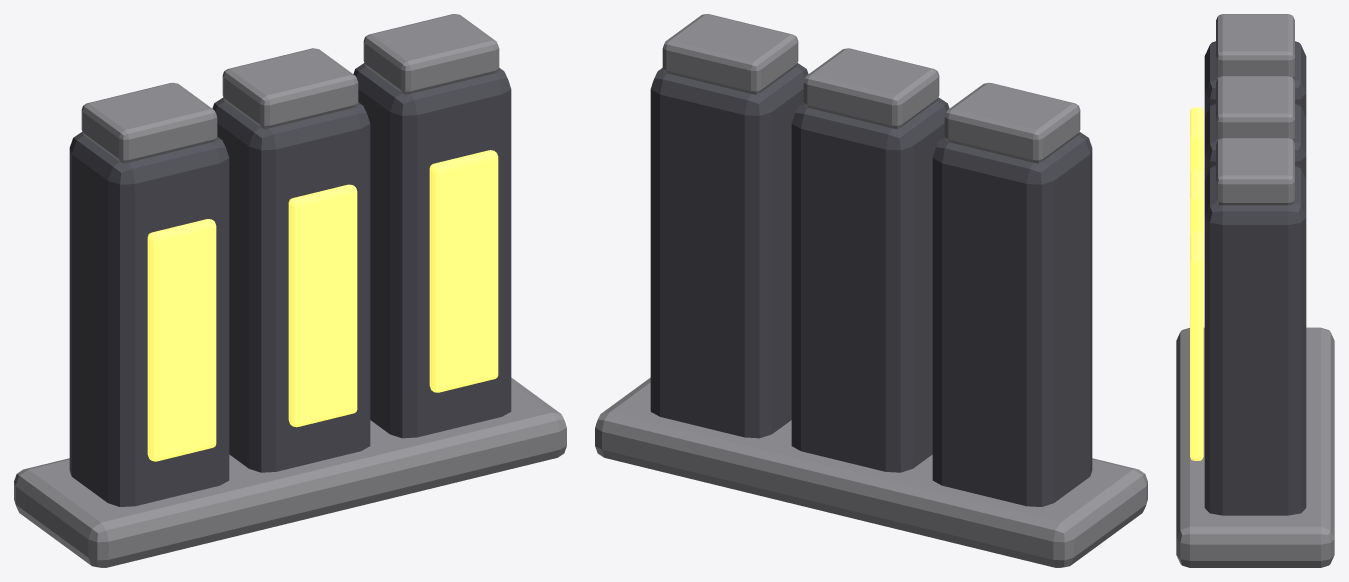
Rendered from pickup_pistol_ammo.glb.
The picture shows the model from 3 angles, left to right: view 1: azimuth 30°, elevation 25°; view 2: azimuth 150°, elevation 25°; view 3: azimuth 270°, elevation 25°; orthographic projection. The views are drawn at different scales.
Parts seen in each view (by area): view 1: pickup_pistol_ammo; view 2: pickup_pistol_ammo; view 3: pickup_pistol_ammo.
Boxes of the visible parts, x1=… form: pickup_pistol_ammo: x1=14, y1=14, x2=566, y2=567; pickup_pistol_ammo: x1=595, y1=14, x2=1147, y2=567; pickup_pistol_ammo: x1=1176, y1=14, x2=1334, y2=567.
Bounding box in the file's own units: 0.22 × 0.1825 × 0.07.
